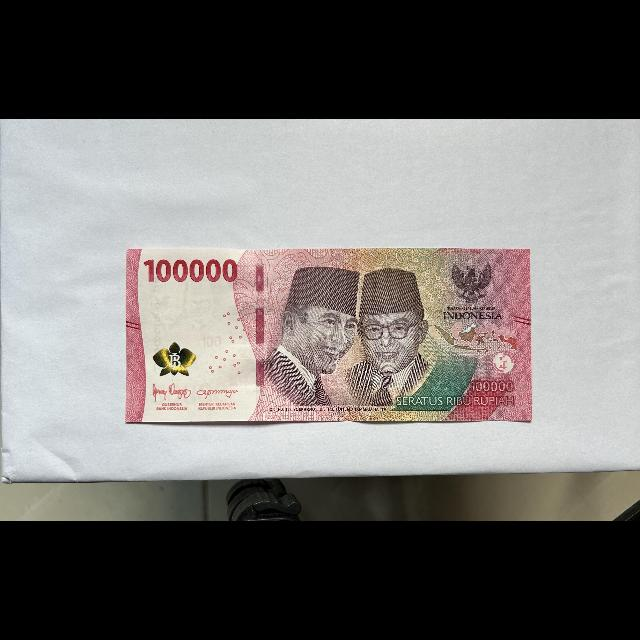Asli-100k: (125, 247, 534, 426)
Tinta-Asli-100k: (153, 341, 198, 377)
